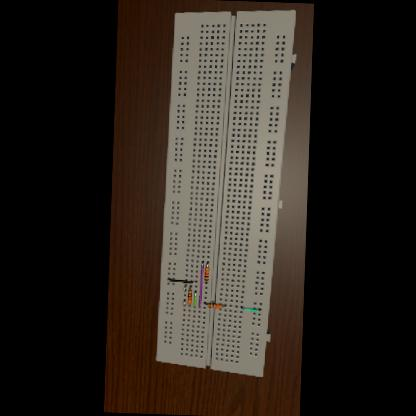breadboard: (154, 6, 296, 377)
resistor: (206, 304, 221, 310), (186, 290, 192, 305), (204, 267, 208, 281)
wire: (198, 261, 203, 309), (166, 278, 195, 284), (240, 306, 259, 312), (192, 291, 196, 308), (183, 284, 185, 292), (203, 302, 206, 306), (182, 300, 184, 306), (188, 285, 190, 290), (221, 304, 224, 307), (205, 282, 206, 284), (188, 306, 189, 308), (206, 262, 206, 266)
